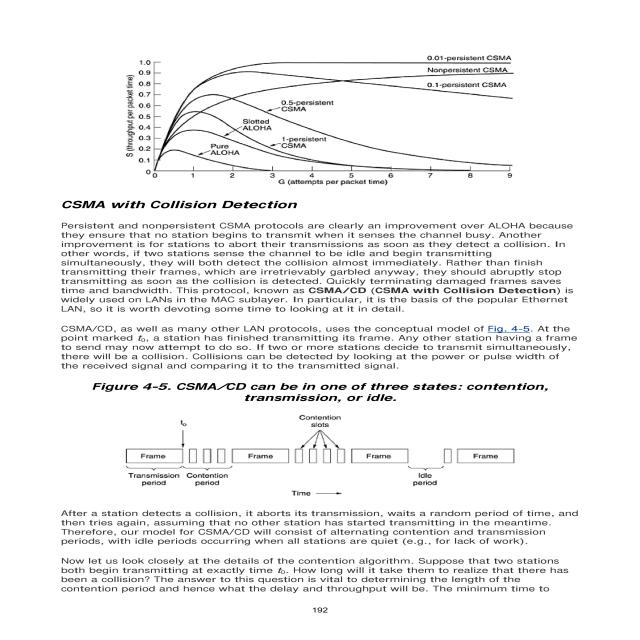diagram: (85, 44, 605, 192), (49, 376, 587, 500)
